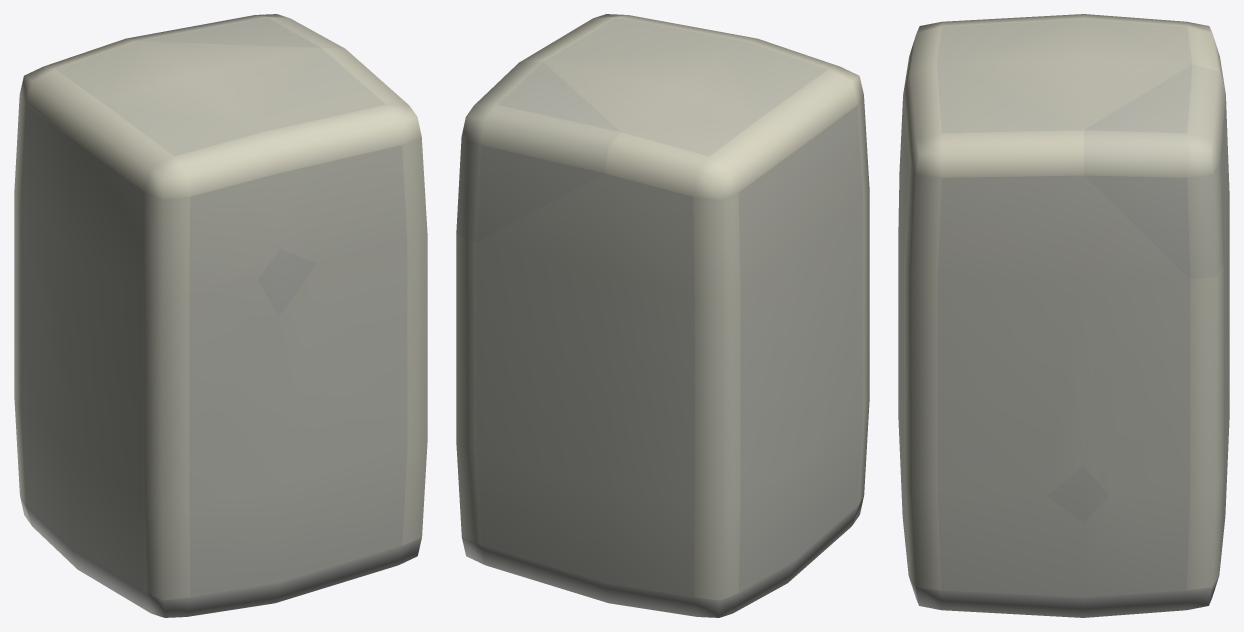
File: block_corner_stone2_LOD_setup.fbx
3 views of the same model, side by side, from view 1: azimuth 30°, elevation 25°; view 2: azimuth 150°, elevation 25°; view 3: azimuth 270°, elevation 25° (orthographic). The views are drawn at different scales.
Visible parts, largest first — view 1: block_corner_stone2_LOD0; view 2: block_corner_stone2_LOD0; view 3: block_corner_stone2_LOD0.
Part boxes in pixels (x1,y1,x2,y2): block_corner_stone2_LOD0: (14, 14, 427, 617); block_corner_stone2_LOD0: (456, 14, 869, 617); block_corner_stone2_LOD0: (898, 14, 1229, 617).
Size of what is drawn, in the model's own units: 68.7 by 109 by 66.41.
